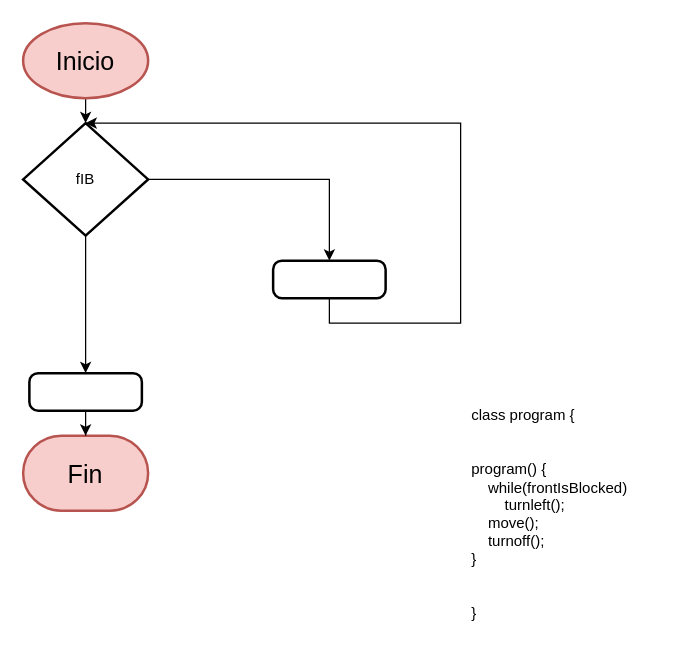
The diagram is 690 pixels wide and 669 high, and some of its shapes have lost their labels. The shapes that lost their labels are listed below. From the top down, each one's centre as x and y in pixels, then its label:
(x=328, y=279): turnleft
(x=85, y=391): move
